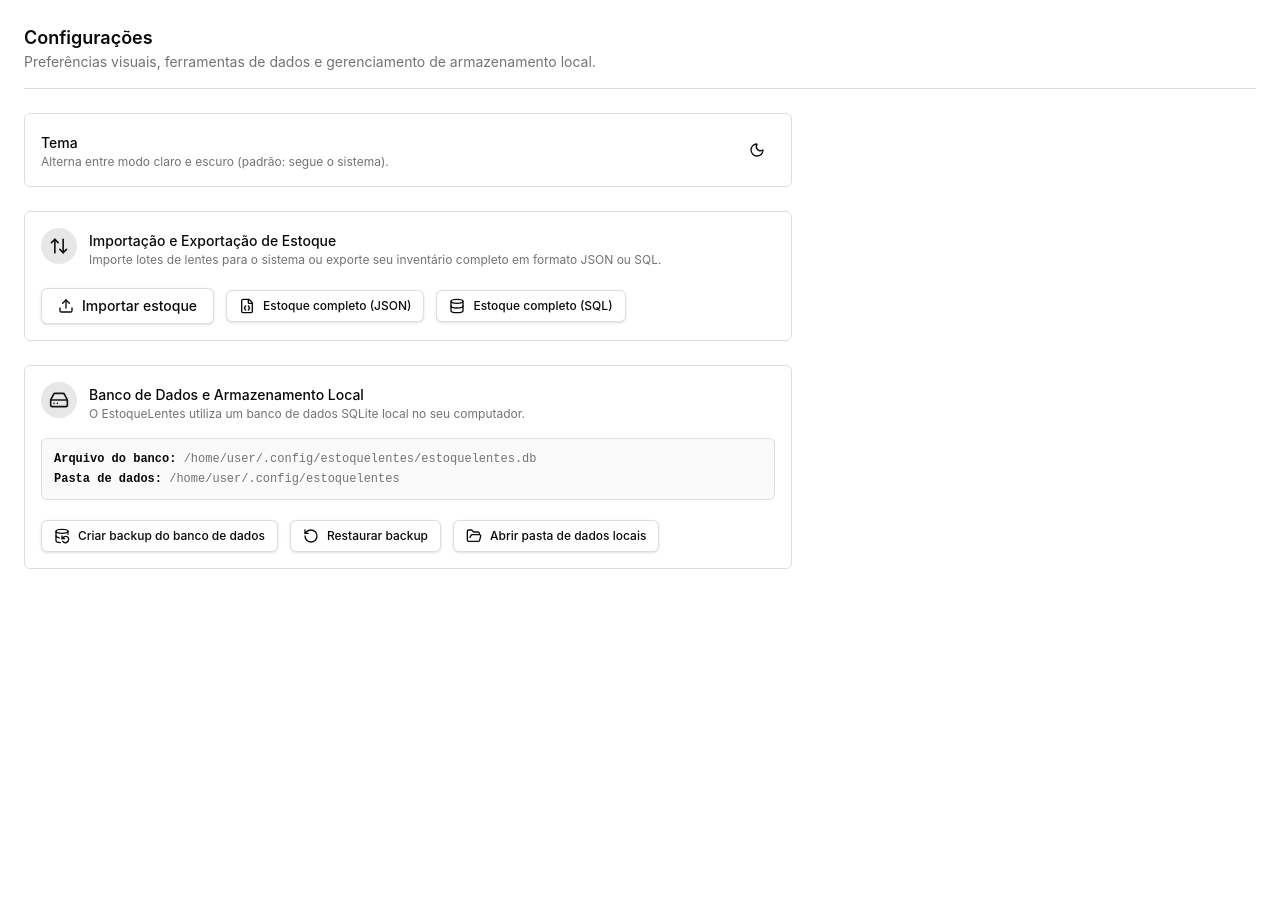
Test: SettingsView › displays error message when database restore fails
Click the button "Restaurar backup" at {"x": 366, "y": 536}, box [290,520,441,552]
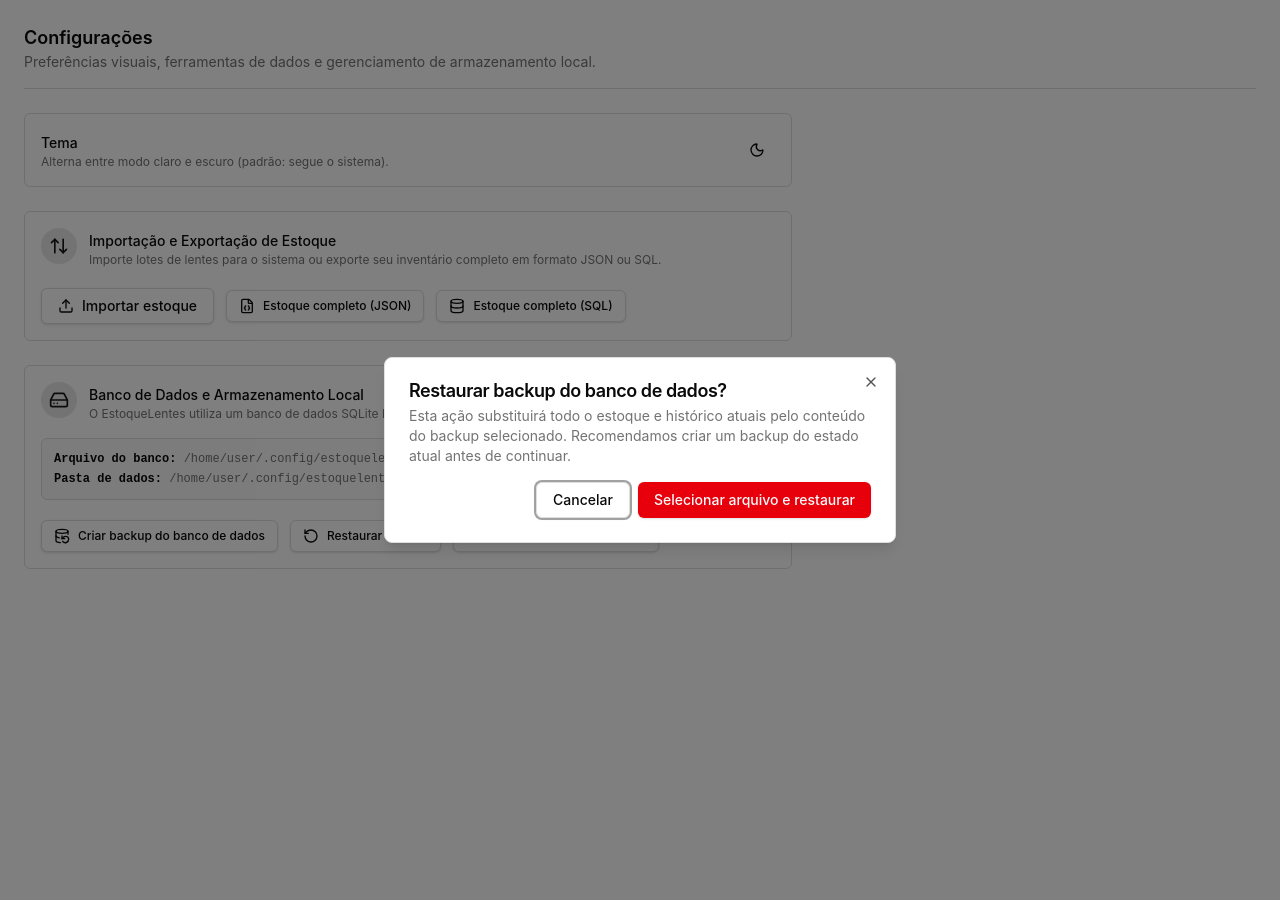
Click the button "Selecionar arquivo e restaurar" at {"x": 754, "y": 500}, box [638,482,871,518]
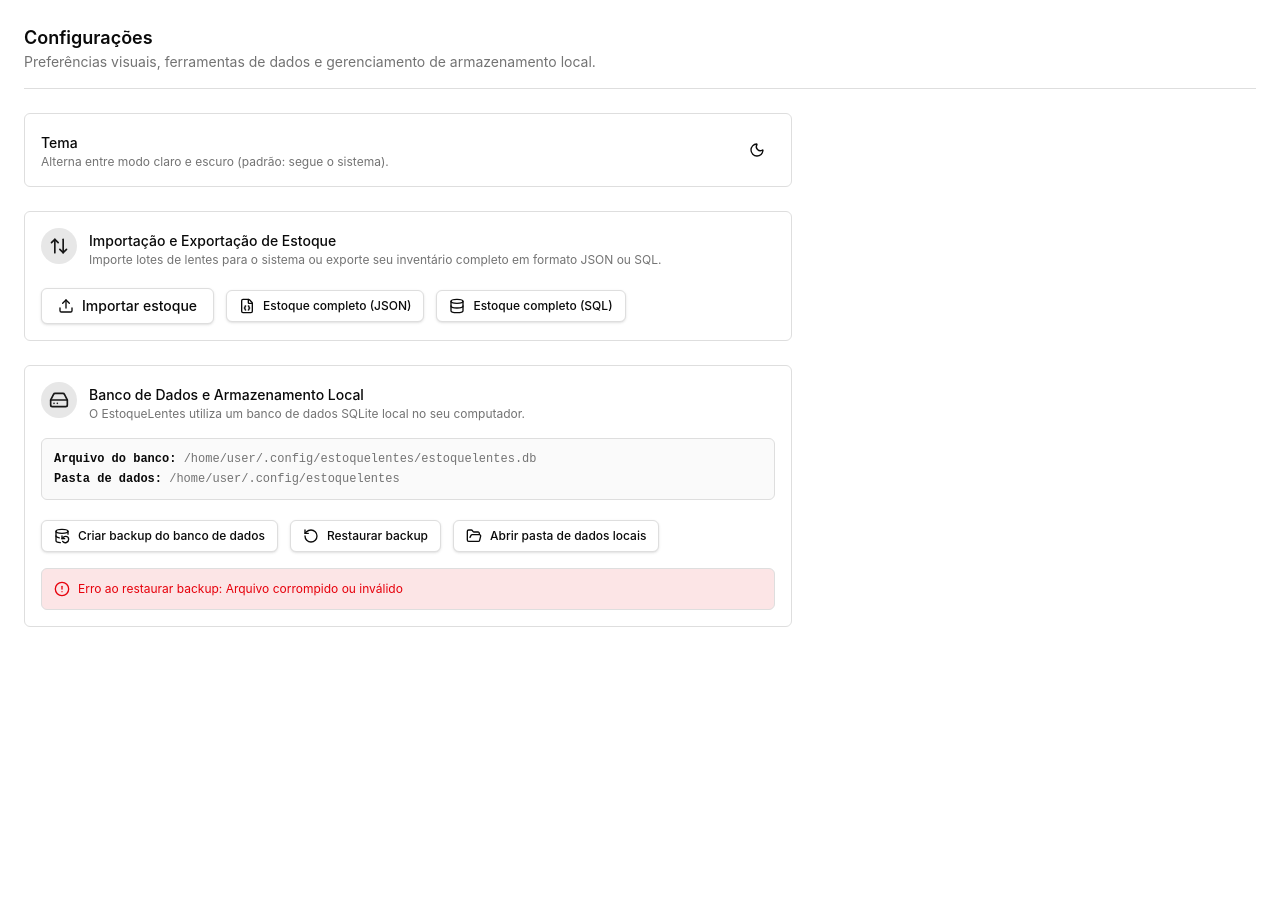
Result: the text "Erro ao restaurar backup: Arquivo corrompido ou inválido" is shown at [78,581,403,597]
